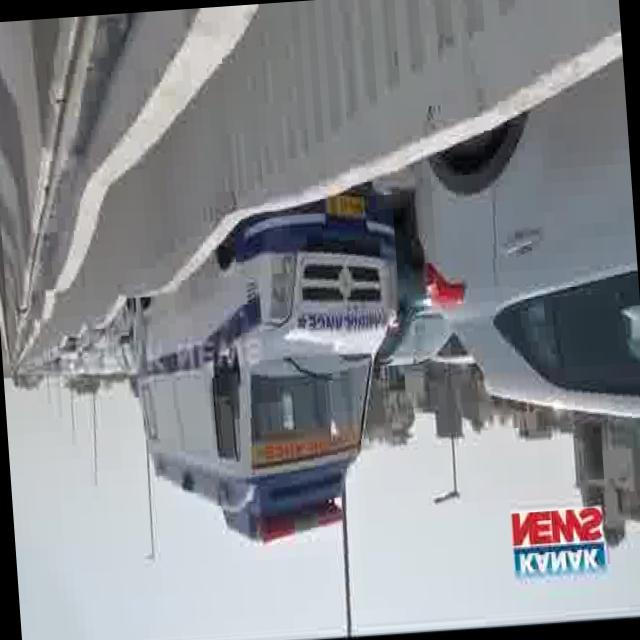ambulance: (116, 171, 414, 564)
